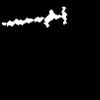double_crochet: (2, 7, 66, 26)
